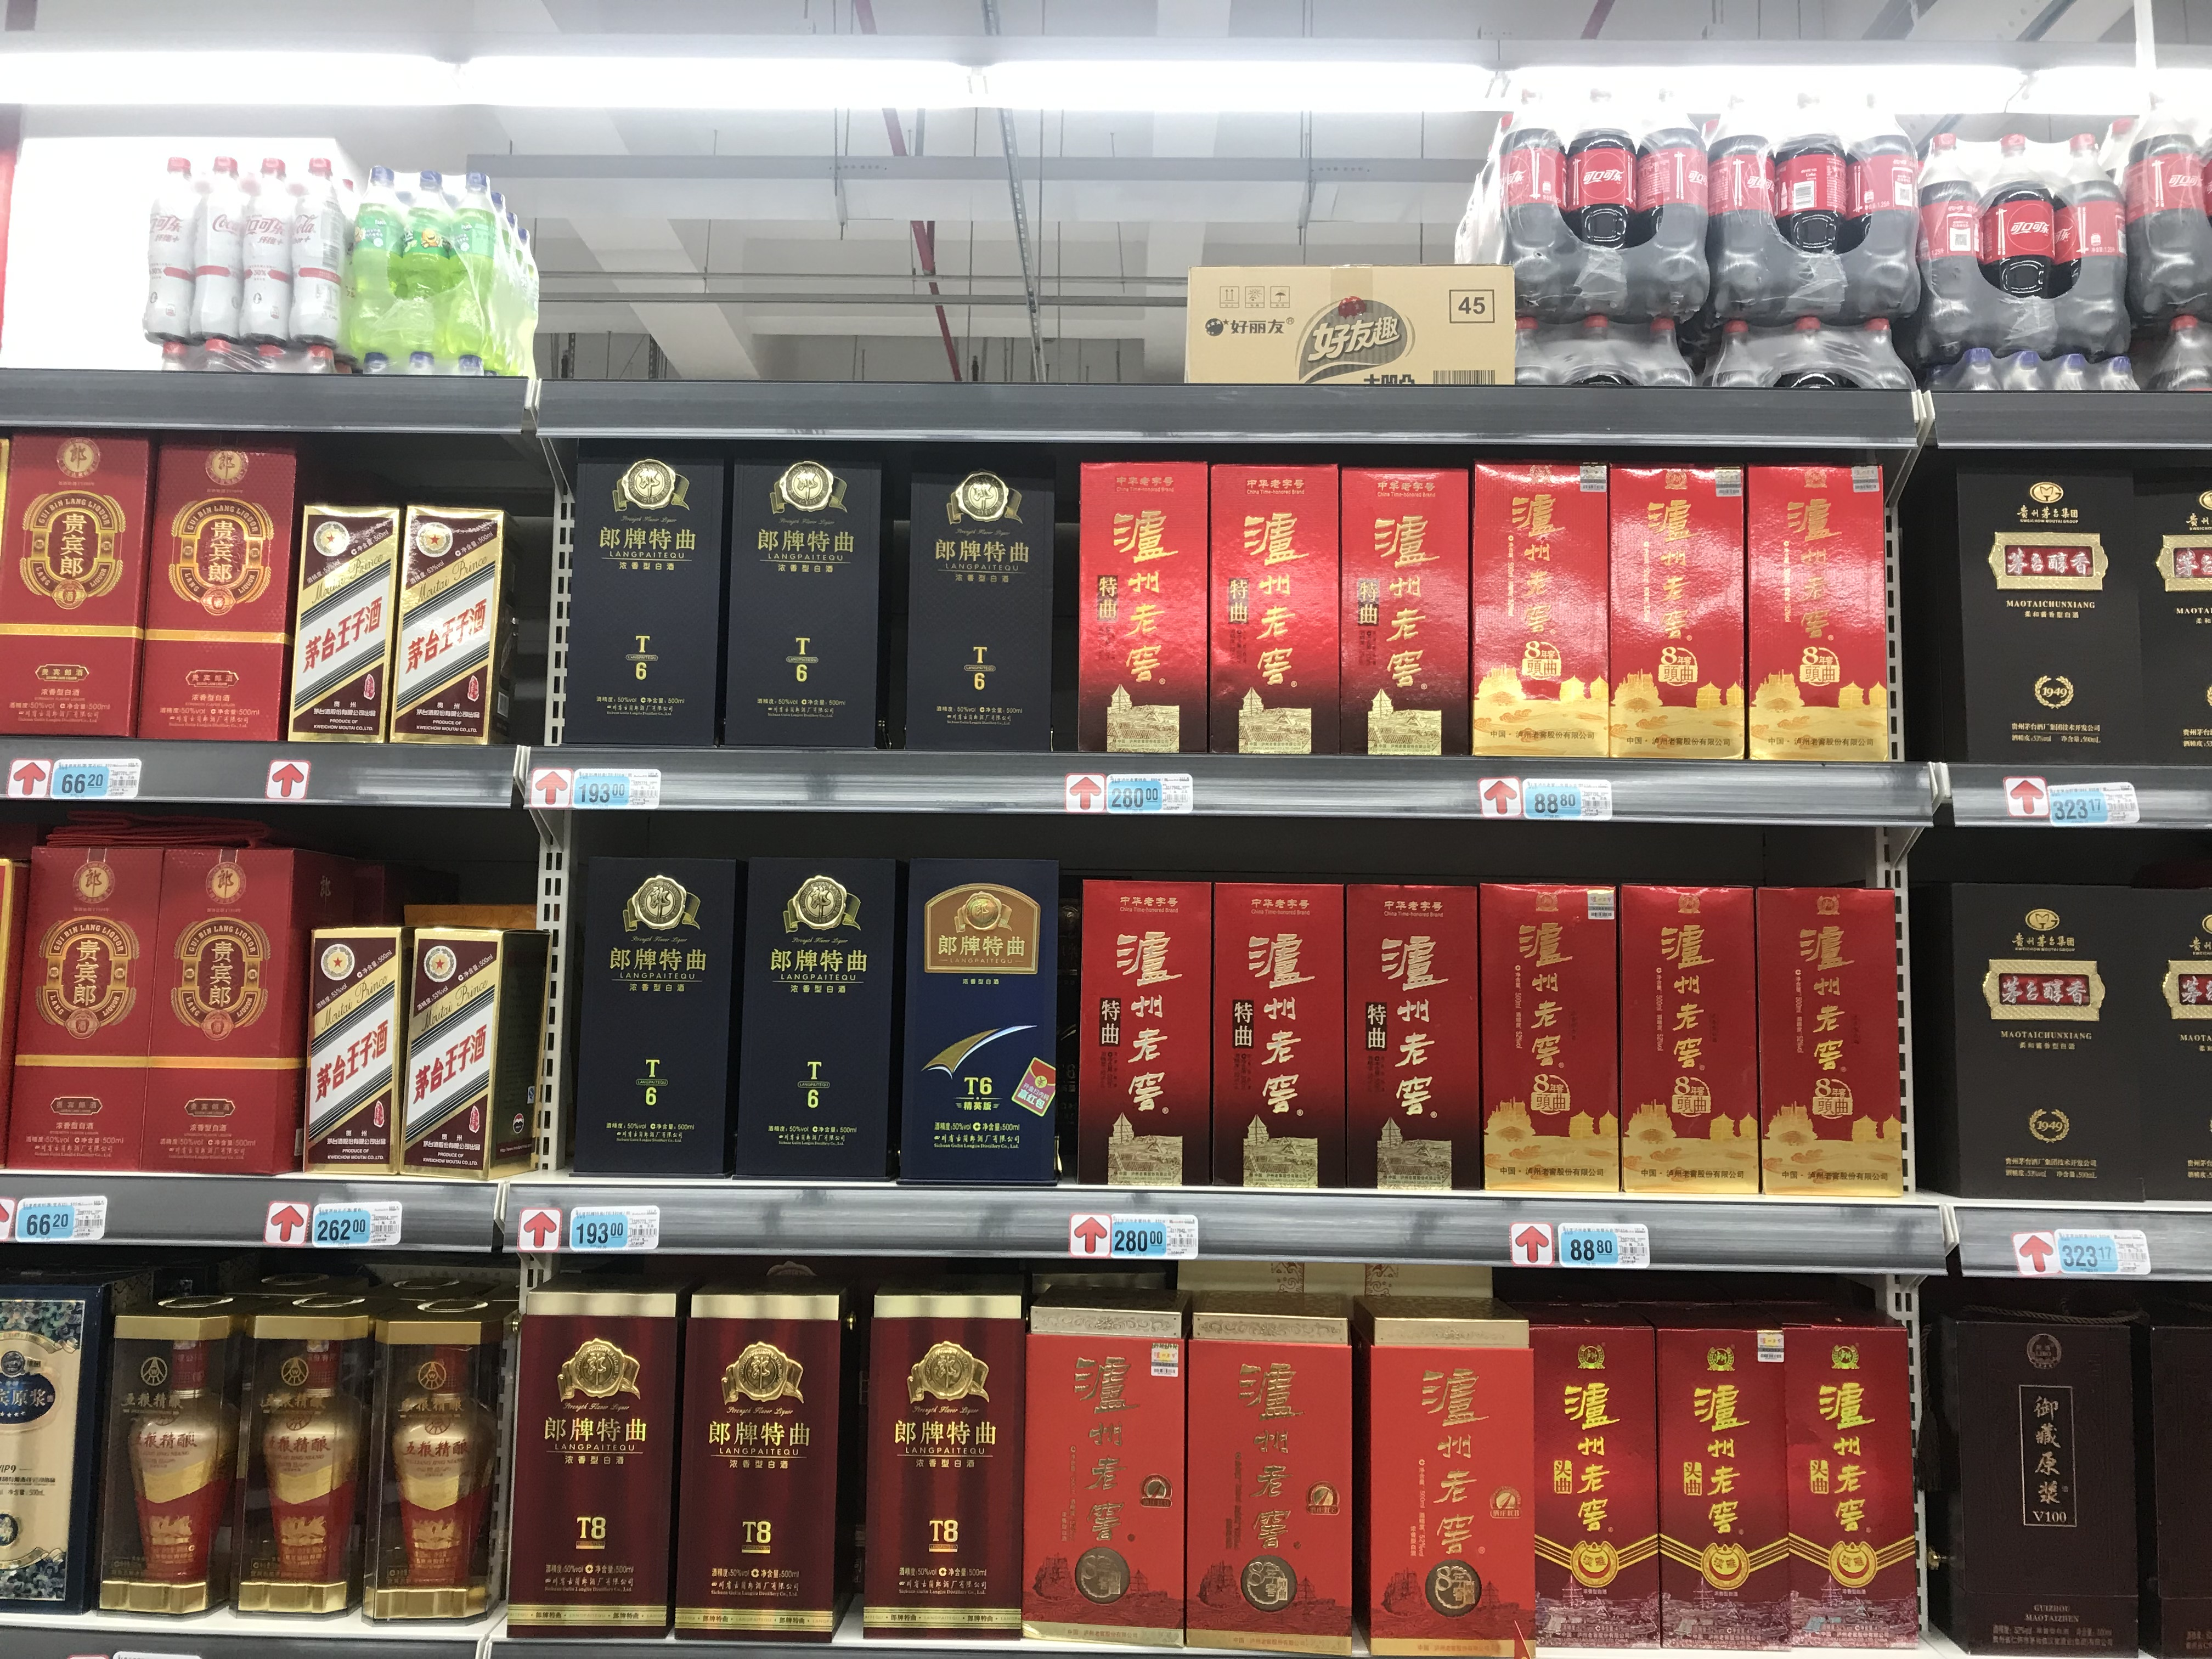box: (152, 836, 385, 1175), (1935, 1307, 2158, 1649), (1926, 877, 2135, 1201), (1933, 469, 2141, 793), (1172, 1281, 1355, 1636), (493, 1283, 671, 1636), (1008, 1270, 1177, 1636), (1360, 1302, 1536, 1645), (671, 1272, 831, 1642), (860, 1274, 1010, 1638), (570, 850, 730, 1183), (129, 422, 296, 739), (7, 838, 157, 1190), (733, 843, 888, 1180), (900, 861, 1055, 1192), (1749, 885, 1902, 1209), (895, 450, 1057, 755), (1787, 1321, 1933, 1652), (1653, 1328, 1799, 1659), (1529, 1326, 1676, 1657), (1615, 880, 1766, 1199), (568, 448, 721, 753), (730, 446, 881, 749), (0, 423, 146, 735), (1480, 880, 1623, 1199), (1209, 885, 1352, 1204), (1076, 877, 1219, 1195), (94, 1300, 237, 1617), (1341, 885, 1484, 1202), (2076, 889, 2212, 1215), (1745, 462, 1890, 767), (1470, 462, 1613, 760), (244, 1293, 371, 1617), (1609, 467, 1745, 765), (1080, 453, 1211, 756), (374, 1295, 493, 1626), (1211, 460, 1339, 760), (2099, 1324, 2212, 1657), (1339, 467, 1474, 746), (2094, 469, 2212, 784), (406, 915, 538, 1173), (291, 918, 420, 1171), (0, 1279, 91, 1615), (395, 504, 503, 737), (296, 504, 390, 744)
others: (1179, 260, 1514, 416), (1461, 98, 1712, 305), (1914, 136, 2137, 357), (1716, 78, 1921, 317), (143, 159, 355, 364), (348, 164, 545, 378), (1702, 324, 1918, 423), (1503, 312, 1698, 418), (1944, 342, 2134, 425), (2127, 138, 2210, 324), (160, 338, 341, 392), (366, 354, 496, 423), (2153, 314, 2210, 394)
